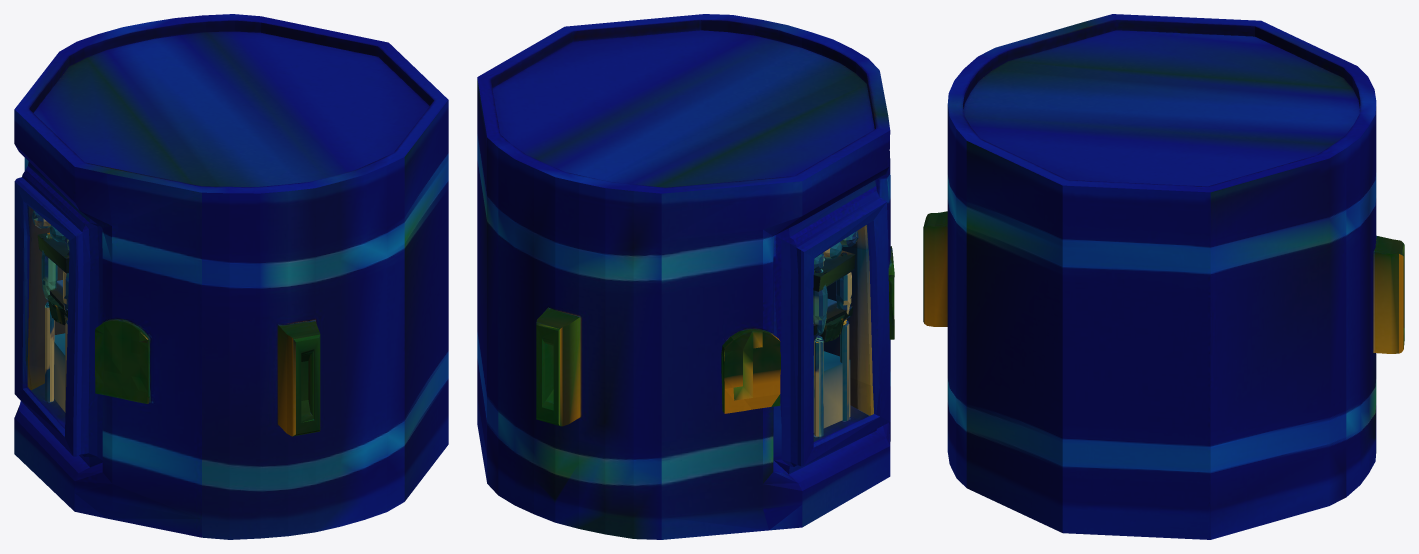
Rendered from cylinder-drum.glb.
3 views of the same model, side by side, from view 1: azimuth 30°, elevation 25°; view 2: azimuth 150°, elevation 25°; view 3: azimuth 270°, elevation 25° (orthographic).
Visible parts, largest first — view 1: tripo_node_125e1ebd-06b5-45bc-bedb-06c393bd71dc; view 2: tripo_node_125e1ebd-06b5-45bc-bedb-06c393bd71dc; view 3: tripo_node_125e1ebd-06b5-45bc-bedb-06c393bd71dc.
Boxes of the visible parts, x1,y1,x2,y2 form: tripo_node_125e1ebd-06b5-45bc-bedb-06c393bd71dc: (14, 14, 448, 539); tripo_node_125e1ebd-06b5-45bc-bedb-06c393bd71dc: (477, 14, 894, 539); tripo_node_125e1ebd-06b5-45bc-bedb-06c393bd71dc: (923, 14, 1404, 539).
Size of the model in its own units: 0.877 by 0.7988 by 0.998.
1 material, 1 textured.
